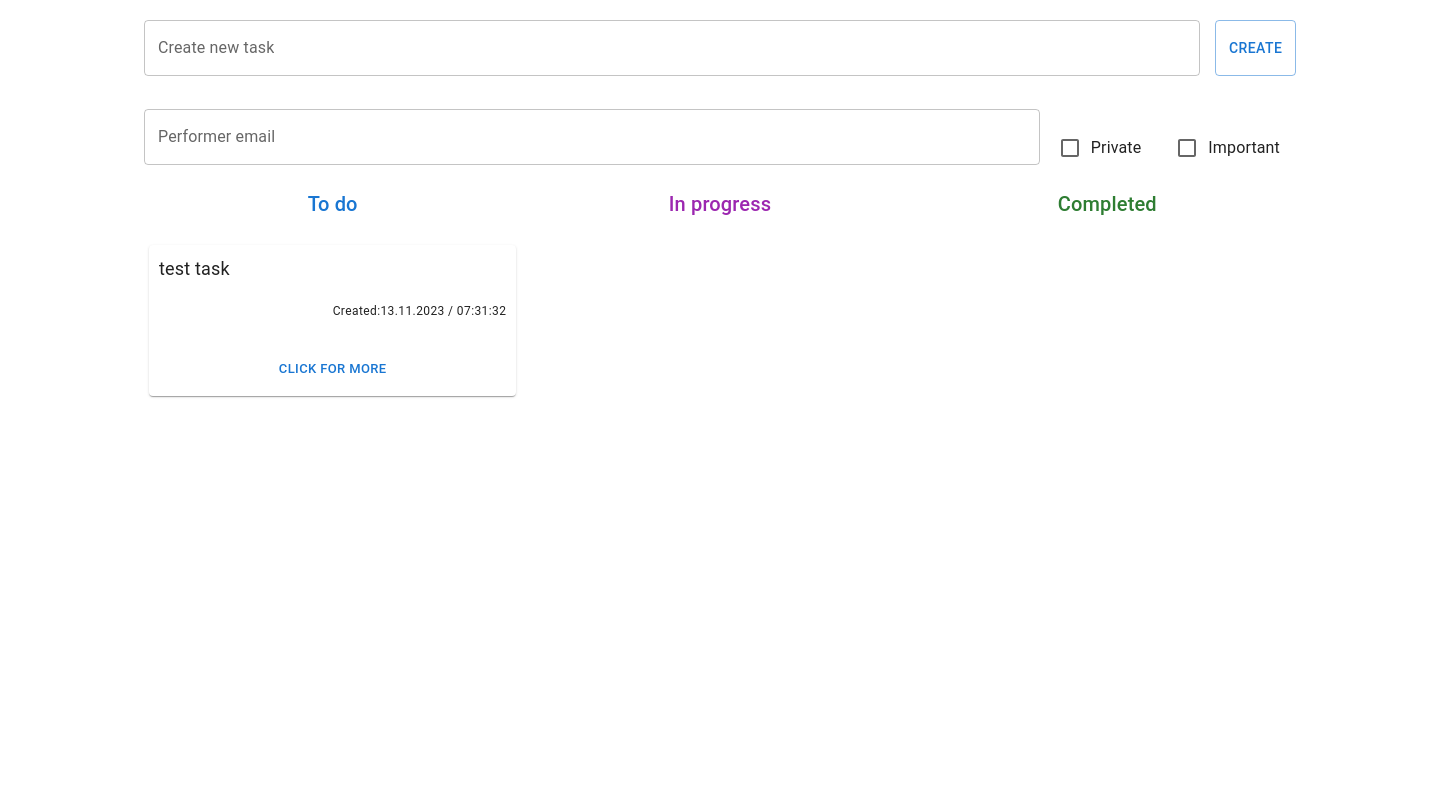
TaskBoard › open modal and render Main Task, after the button has been pressed
Click the button with test id "BoardCard-Btn": (333, 369) left=159, top=352, right=506, bottom=386
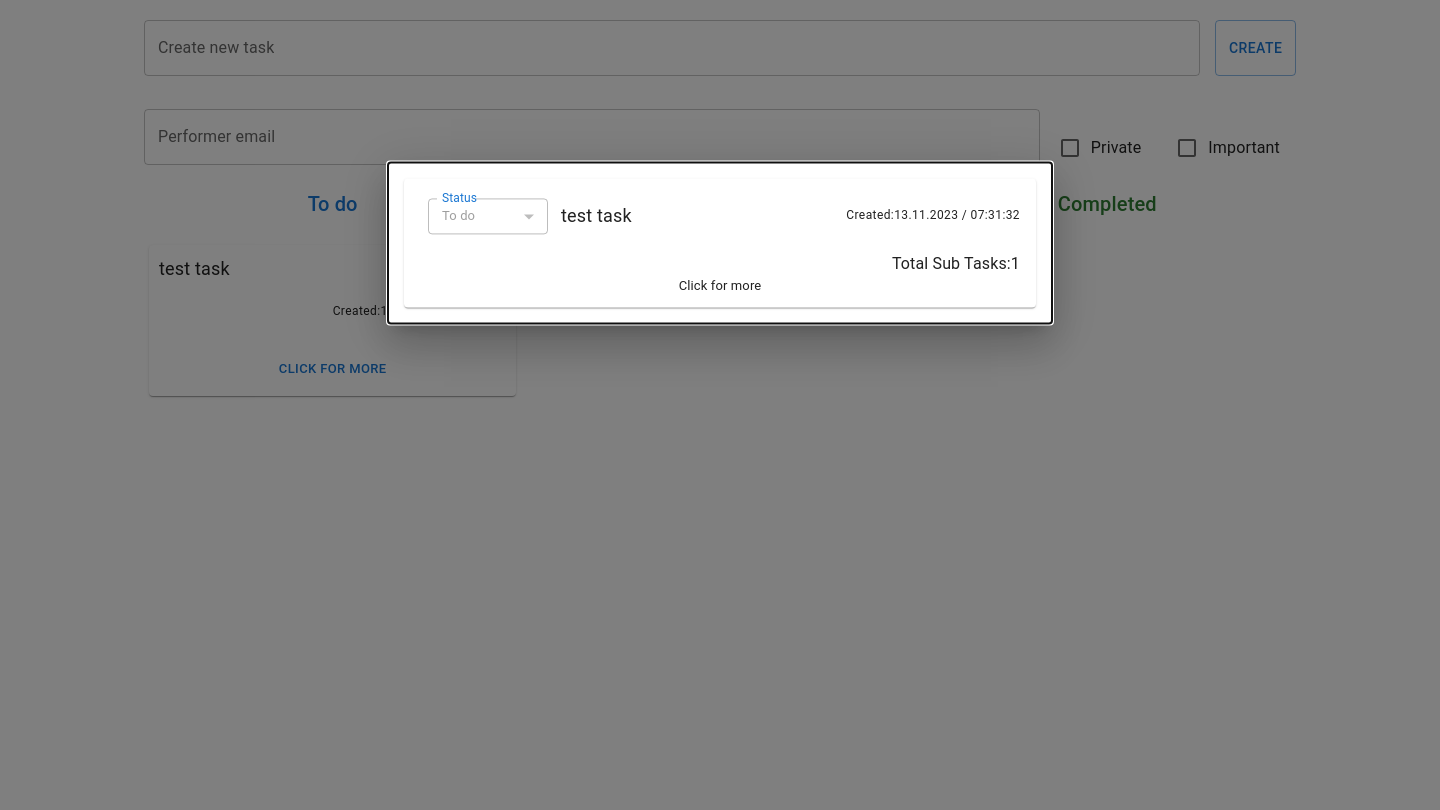
Expected: the element with test id "MainTask" is shown, left=404, top=178, right=1036, bottom=308
